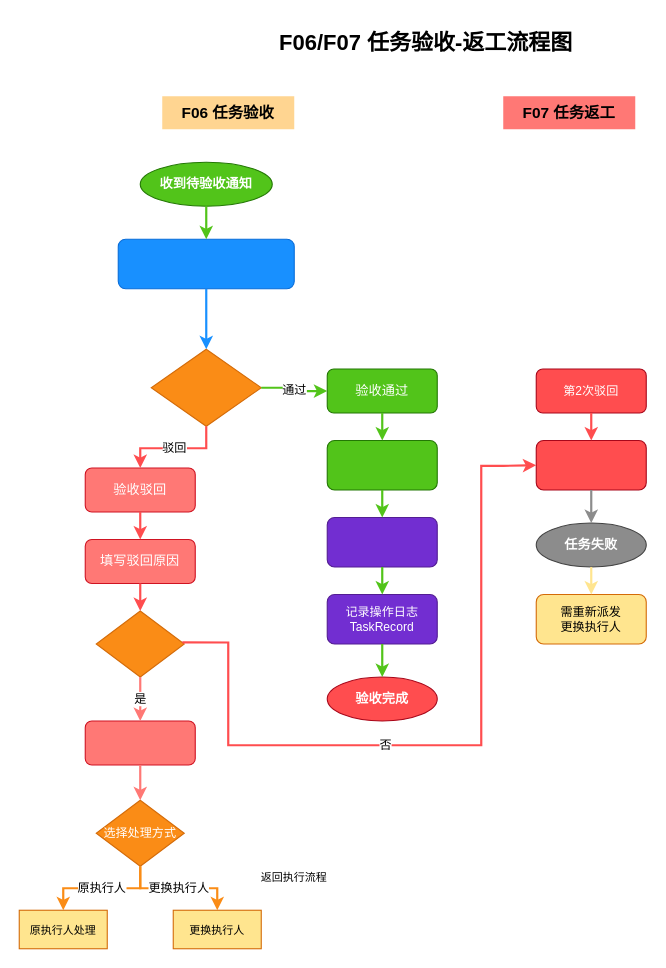
The diagram is 666 pixels wide and 968 high, and some of its shapes have lost their labels. Each missing label, with the box of its shape:
任务状态变更 rejected → failed: (535, 439, 646, 490)
任务状态变更 waiting_acceptance→completed: (326, 439, 437, 490)
查看任务完成情况 照片/进度/反馈: (117, 238, 294, 289)
第1次驳回？: (95, 610, 184, 677)
自动同步 创建WorkLog: (326, 516, 437, 567)
进入返工流程: (84, 720, 195, 765)
验收结果？: (150, 348, 261, 426)
